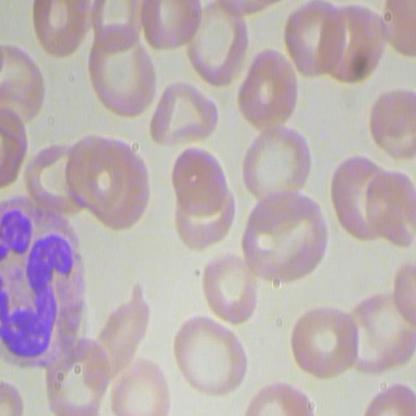RBC: (238, 188, 333, 289), (79, 282, 154, 391), (83, 23, 166, 121), (169, 311, 258, 393), (286, 298, 363, 383), (314, 1, 389, 87), (330, 153, 397, 244), (241, 125, 313, 205), (237, 47, 304, 132), (150, 75, 219, 153), (285, 1, 345, 82), (197, 250, 257, 328), (170, 142, 232, 217)
WBC: (1, 193, 86, 376)
